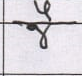ai_matra: (33, 0, 56, 22)
